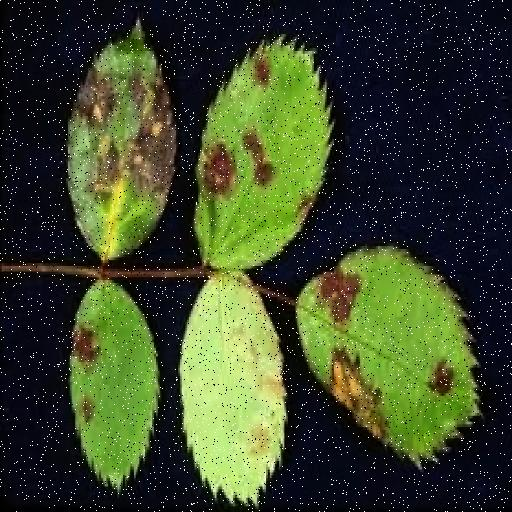downy_mildew: (298, 247, 478, 463), (195, 40, 332, 268), (68, 23, 176, 263), (180, 275, 286, 503), (70, 281, 159, 489)
